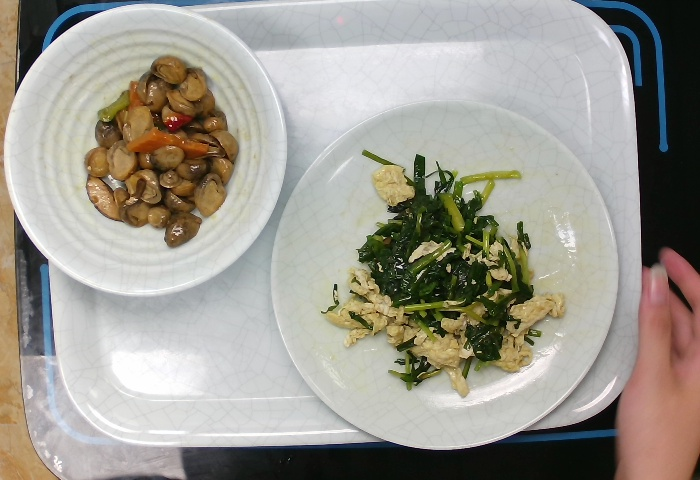JYsf-Da_Yuan_Pan: (266, 94, 622, 454)
JYsf-Xiao_Tang_Wan: (1, 2, 294, 304)
